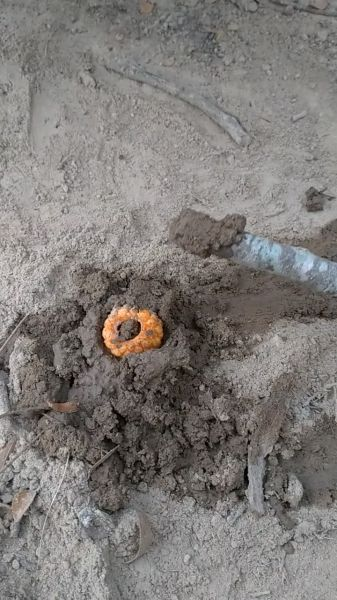eggs: (98, 299, 171, 368)
